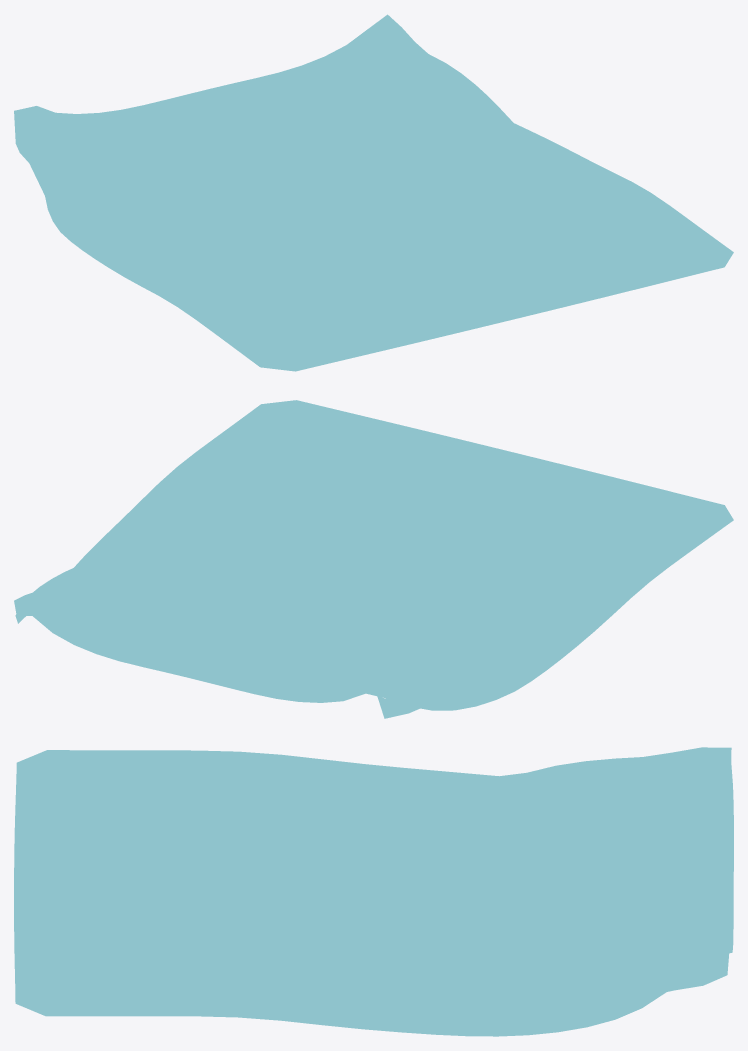
The model's file is clothanim (1).fbx.
3 views of the same model, one above another, from view 1: azimuth 30°, elevation 25°; view 2: azimuth 150°, elevation 25°; view 3: azimuth 270°, elevation 25° (orthographic). The views are drawn at different scales.
Visible parts, largest first — view 1: Plane; view 2: Plane; view 3: Plane.
Boxes of the visible parts, <box> form: Plane: <box>14,14,733,371</box>; Plane: <box>14,400,733,718</box>; Plane: <box>14,747,733,1036</box>.
Size of the model in its own units: 200 by 22.1 by 229.
1 material, 1 textured.
